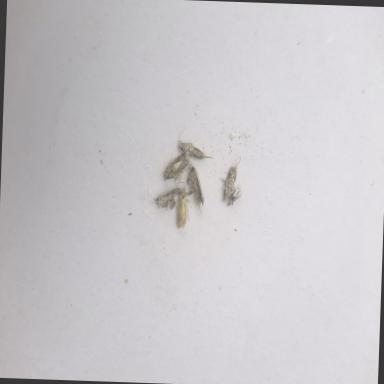pbw: (177, 124, 214, 166), (161, 150, 191, 190), (185, 159, 206, 215), (220, 155, 240, 205), (174, 182, 192, 230), (152, 186, 182, 212)
